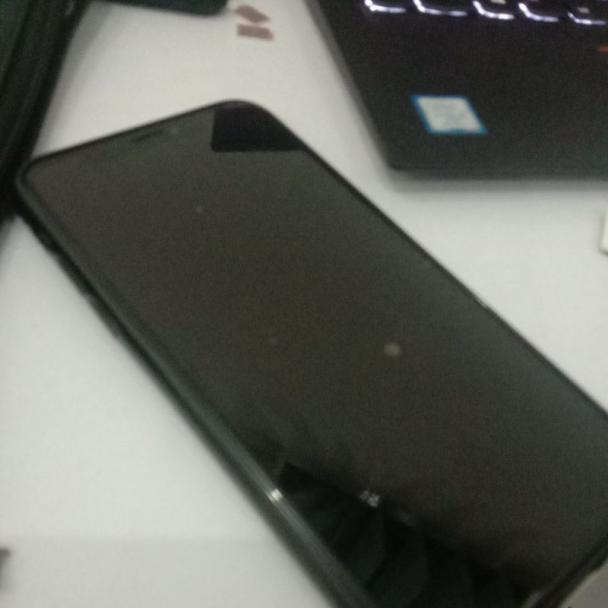Handphone: (11, 94, 608, 603)
